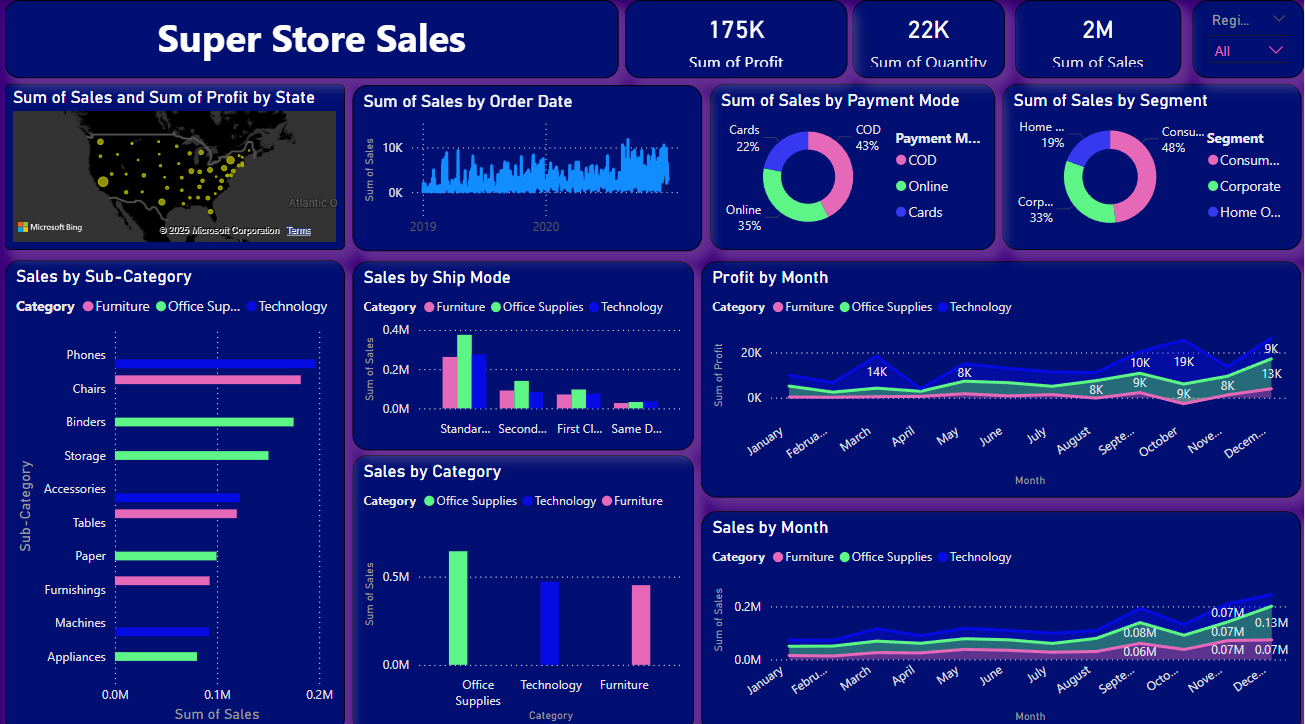

Layout of this report page (visuals, bound fields, positions):
{"tool":"powerbi","page":{"name":"Page 1","canvas":[1280,720],"ordinal":0},"visuals":[{"type":"clusteredColumnChart","title":" Sales by Category","fields":{"Category":["Super Store_sales.Category"],"Y":["Sum(Super Store_sales.Sales)"],"Series":["Super Store_sales.Category"]},"box":[345.8,446.9,334.8,273.1],"z":0},{"type":"clusteredBarChart","title":" Sales by Sub-Category ","fields":{"Category":["Super Store_sales.Sub-Category"],"Y":["Sum(Super Store_sales.Sales)"],"Series":["Super Store_sales.Category"]},"box":[5.5,254.8,333.4,465.2],"z":1000},{"type":"clusteredColumnChart","title":" Sales by Ship Mode ","fields":{"Y":["Sum(Super Store_sales.Sales)"],"Series":["Super Store_sales.Category"],"Category":["Super Store_sales.Ship Mode"]},"box":[345.8,256.6,334.8,185.2],"z":2000},{"type":"stackedAreaChart","title":"Sales by Month ","fields":{"Y":["Sum(Super Store_sales.Sales)"],"Category":["Super Store_sales.Order Date.Variation.Date Hierarchy.Month"],"Series":["Super Store_sales.Category"]},"box":[688.9,501.8,588.7,218.2],"z":3000},{"type":"stackedAreaChart","title":"Profit by Month ","fields":{"Category":["Super Store_sales.Order Date.Variation.Date Hierarchy.Month"],"Y":["Sum(Super Store_sales.Profit)"],"Series":["Super Store_sales.Category"]},"box":[688.9,256.6,588.7,231.9],"z":4000},{"type":"map","fields":{"Category":["Super Store_sales.State"],"Size":["Sum(Super Store_sales.Sales)"]},"box":[5.5,82.3,333.4,163.3],"z":5000},{"type":"donutChart","fields":{"Category":["Super Store_sales.Segment"],"Y":["Sum(Super Store_sales.Sales)"]},"box":[983.9,82.3,293.7,163.3],"z":6000},{"type":"donutChart","fields":{"Y":["Sum(Super Store_sales.Sales)"],"Category":["Super Store_sales.Payment Mode"]},"box":[697.1,82.3,279.9,163.3],"z":7000},{"type":"slicer","fields":{"Values":["Super Store_sales.Region"]},"box":[1170.5,0,109.8,76.8],"z":8000},{"type":"textbox","box":[5.5,0,602.4,76.8],"z":9000},{"type":"card","fields":{"Values":["Sum(Super Store_sales.Sales)"]},"box":[996.2,0,163.3,76.8],"z":10000},{"type":"card","fields":{"Values":["Sum(Super Store_sales.Quantity)"]},"box":[837.1,0,149.6,76.8],"z":11000},{"type":"card","fields":{"Values":["Sum(Super Store_sales.Profit)"]},"box":[613.4,0,218.2,76.8],"z":12000},{"type":"lineChart","fields":{"Y":["Sum(Super Store_sales.Sales)"],"Category":["Super Store_sales.Order Date"]},"box":[345.8,83.7,343.1,163.3],"z":13000}]}

Visuals, with their boxes in screenshot pixels (x1, y1, x2, y2), scaled from the page's 1280x720 canvas onto the 1305x724 screenshot:
" Sales by Category" clusteredColumnChart: 353,449,694,723
" Sales by Sub-Category " clusteredBarChart: 6,256,346,723
" Sales by Ship Mode " clusteredColumnChart: 353,258,694,444
"Sales by Month " stackedAreaChart: 702,505,1303,723
"Profit by Month " stackedAreaChart: 702,258,1303,491
map - Super Store_sales.State x Sum(Super Store_sales.Sales): 6,83,346,247
donutChart - Super Store_sales.Segment x Sum(Super Store_sales.Sales): 1003,83,1303,247
donutChart - Sum(Super Store_sales.Sales) x Super Store_sales.Payment Mode: 711,83,996,247
slicer - Super Store_sales.Region: 1193,0,1304,77
textbox: 6,0,620,77
card - Sum(Super Store_sales.Sales): 1016,0,1182,77
card - Sum(Super Store_sales.Quantity): 853,0,1006,77
card - Sum(Super Store_sales.Profit): 625,0,848,77
lineChart - Sum(Super Store_sales.Sales) x Super Store_sales.Order Date: 353,84,702,248
